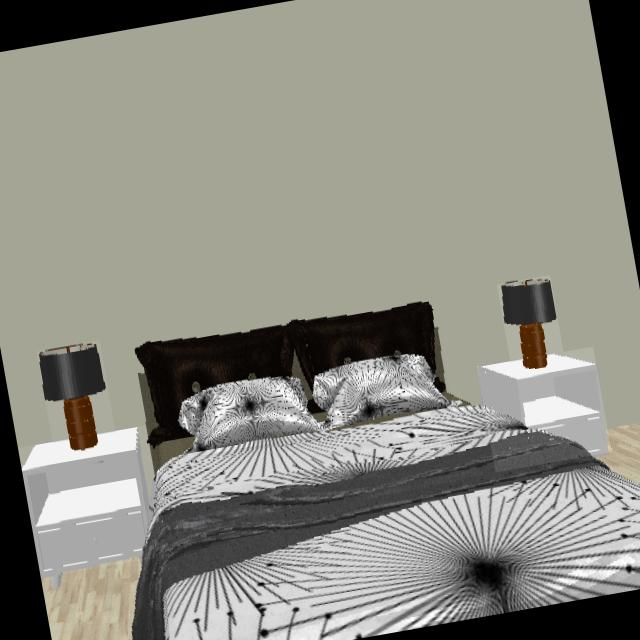bed: (131, 302, 640, 640)
lamp: (38, 343, 107, 451), (501, 279, 557, 369)
nighttable: (21, 429, 156, 576), (478, 354, 606, 454)
pillow: (179, 353, 451, 451)
